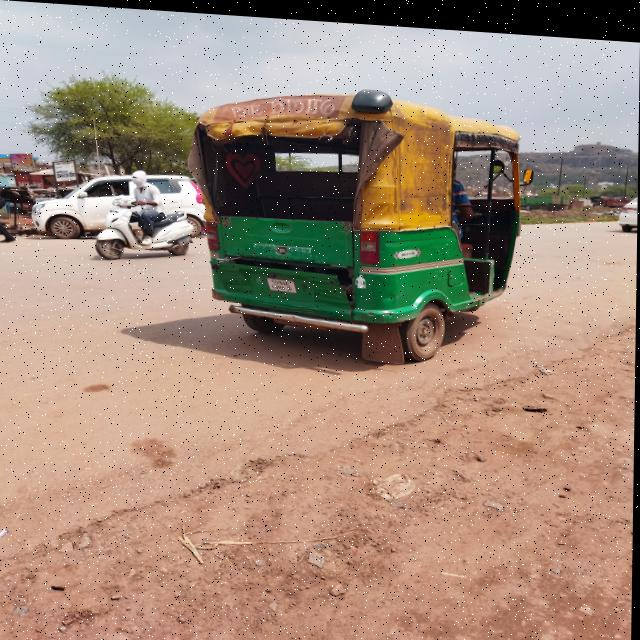plate: (266, 271, 296, 291)
